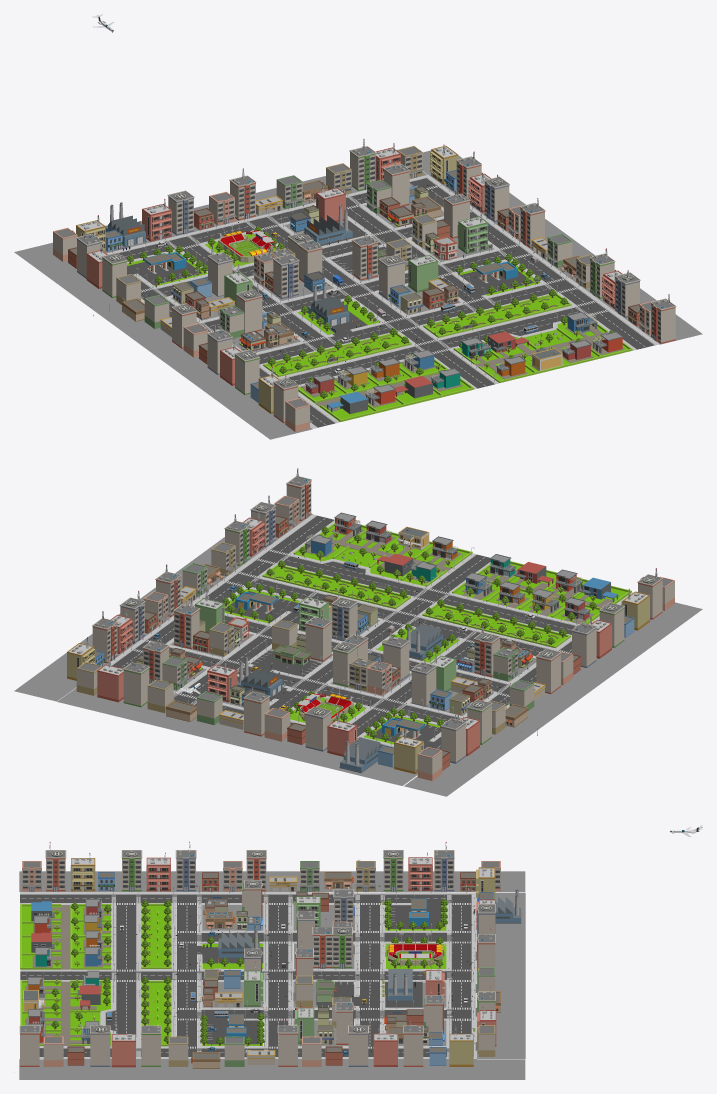
The model's file is ville.glb.
3 renders of one model, top to bottom at view 1: azimuth 30°, elevation 25°; view 2: azimuth 150°, elevation 25°; view 3: azimuth 270°, elevation 25°, orthographic.
Visible parts, largest first — view 1: Road_Concrete_Tile__15_, Road_Concrete_Tile__14_, Natures_Grass_Tile__5_, Natures_Grass_Tile__4_, Building_Stadium, Road_Concrete_Tile__4_, Road_Concrete_Tile__3_, Building_Factory_1, Building_Sky_big_color03_2, Building_Sky_big_color02_1, Building_Sky_big_color02__6_, Building_Factory (+36 smaller); view 2: Road_Concrete_Tile__15_, Road_Concrete_Tile__14__1, Road_Concrete_Tile__14_, Natures_Grass_Tile__4_, Natures_Grass_Tile__5_, Road_Concrete_Tile__3_, Road_Concrete_Tile__4_, Building_Sky_big_color02_1, Building_Factory__1_, Building_Sky_big_color01, Building_Sky_big_color03_1, Building_Factory_1 (+65 smaller); view 3: Road_Concrete_Tile__14_, Road_Concrete_Tile__14__1, Road_Concrete_Tile__15_, Natures_Grass_Tile__5_, Natures_Grass_Tile__4_, Building_Stadium, Road_Concrete_Tile__4_, Road_Lane_Bus_Stop, Road_Concrete_Tile__3_, Building_Factory, Building_Sky_big_color02__9_, Building_Sky_big_color03__5_ (+96 smaller).
Part boxes in pixels (x1,y1,x2,y2): Road_Concrete_Tile__15_: (14, 242, 312, 439); Road_Concrete_Tile__14_: (422, 150, 702, 344); Natures_Grass_Tile__5_: (298, 362, 472, 421); Natures_Grass_Tile__4_: (457, 322, 628, 380); Building_Stadium: (218, 224, 275, 262); Road_Concrete_Tile__4_: (268, 334, 407, 374); Road_Concrete_Tile__3_: (427, 295, 567, 335); Building_Factory_1: (304, 204, 352, 244); Building_Sky_big_color03_2: (272, 254, 299, 298); Building_Sky_big_color02_1: (351, 235, 378, 280); Building_Sky_big_color02__6_: (650, 298, 676, 343); Building_Factory: (307, 282, 349, 326); Road_Concrete_Tile__15_: (404, 602, 702, 796); Road_Concrete_Tile__14__1: (57, 688, 417, 785); Road_Concrete_Tile__14_: (14, 503, 312, 701); Natures_Grass_Tile__4_: (295, 526, 468, 586); Natures_Grass_Tile__5_: (454, 563, 627, 622); Road_Concrete_Tile__3_: (266, 566, 406, 606); Road_Concrete_Tile__4_: (426, 605, 566, 645); Building_Sky_big_color02_1: (305, 616, 332, 661); Building_Factory__1_: (339, 737, 380, 773); Building_Sky_big_color01: (123, 662, 149, 707); Building_Sky_big_color03_1: (331, 597, 358, 641); Building_Factory_1: (237, 656, 282, 697); Road_Concrete_Tile__14_: (19, 1059, 525, 1079); Road_Concrete_Tile__14__1: (477, 892, 525, 1058); Road_Concrete_Tile__15_: (19, 871, 525, 891); Natures_Grass_Tile__5_: (20, 906, 110, 969); Natures_Grass_Tile__4_: (22, 982, 110, 1045); Building_Stadium: (385, 933, 445, 967); Road_Concrete_Tile__4_: (143, 906, 170, 966); Road_Lane_Bus_Stop: (100, 1007, 141, 1033); Road_Concrete_Tile__3_: (143, 983, 170, 1043); Building_Factory: (218, 924, 259, 958); Building_Sky_big_color02__9_: (403, 1025, 423, 1066); Building_Sky_big_color03__5_: (434, 850, 454, 891).
Size of what is drawn, in the model's own units: 329 by 93.14 by 453.
58 materials, 56 textured.
